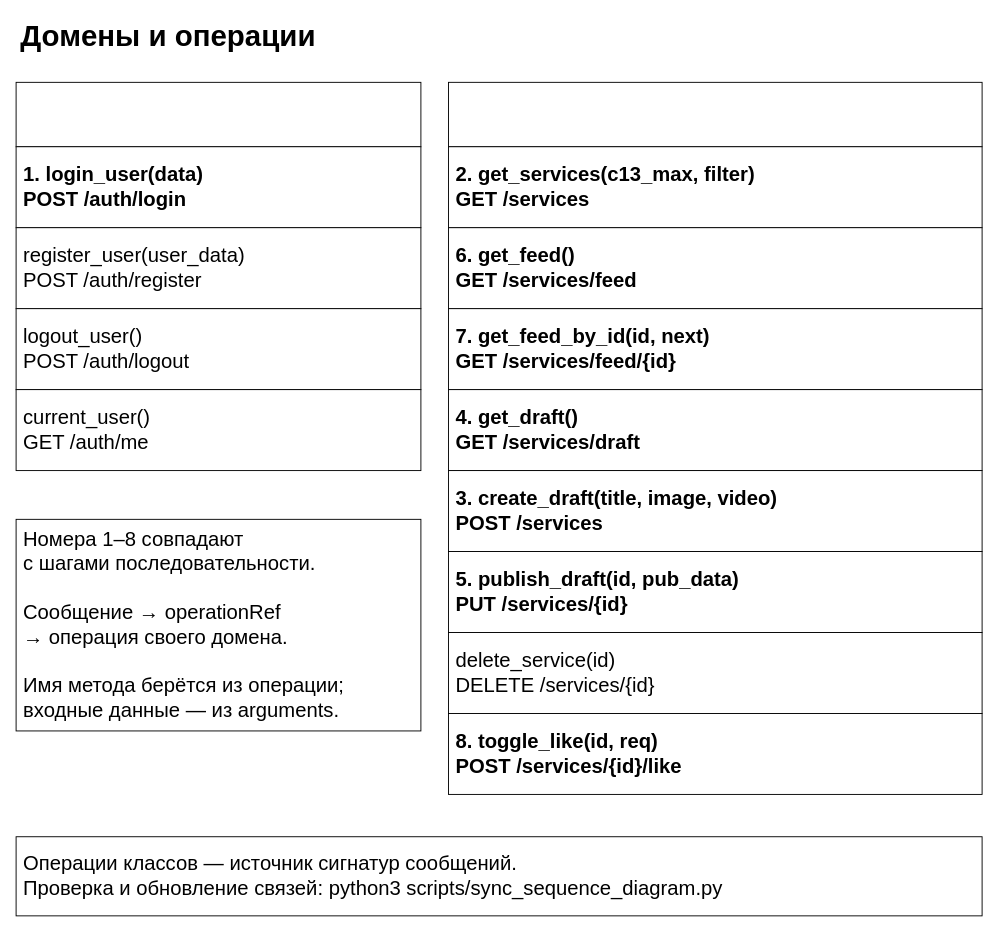
Image size: 998x932. Some labels were removed from this diagram. Each missing label, with the centre of its shape:
"Домен пользователей UserDomain" goes at pixel 218 114.
"Домен услуг ServiceDomain" goes at pixel 715 114.
